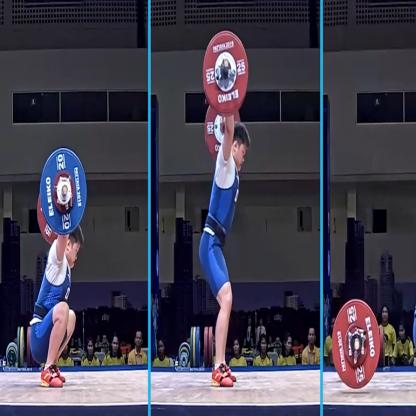Barbell: (330, 292, 384, 392), (33, 144, 89, 240), (200, 23, 252, 121)
